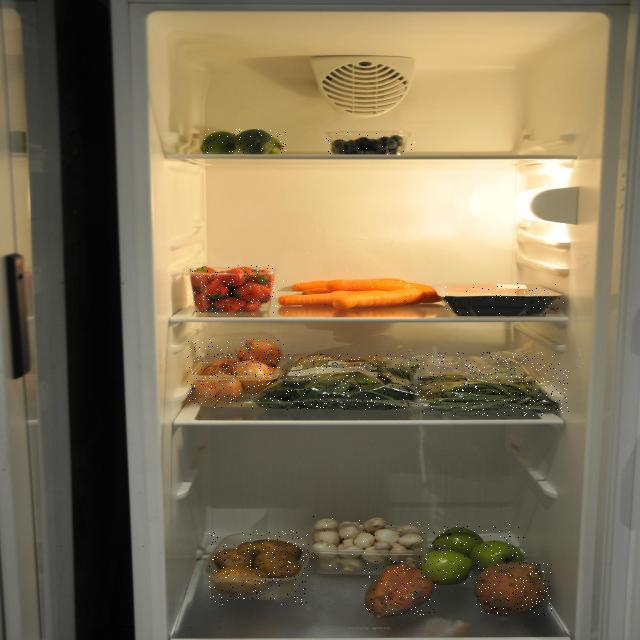apple: (419, 524, 525, 584)
beef: (440, 284, 564, 316)
blueberries: (325, 130, 415, 155)
carrot: (277, 276, 445, 312)
green_beans: (420, 352, 569, 416)
lime: (200, 130, 286, 154)
mushrooms: (310, 516, 420, 575)
onion: (187, 339, 284, 408)
potato: (209, 530, 309, 605)
spinach: (251, 354, 424, 410)
strawberries: (188, 266, 276, 316)
sweet_potato: (474, 561, 552, 616), (364, 560, 437, 617)
